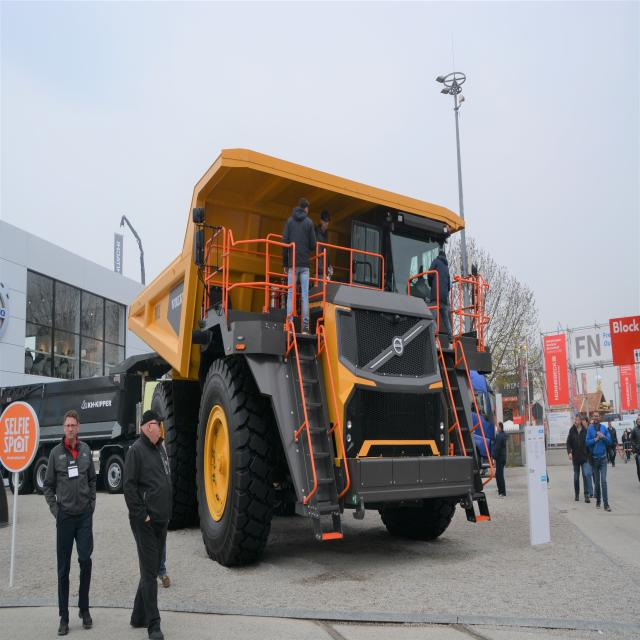dump_truck: (116, 138, 490, 561)
